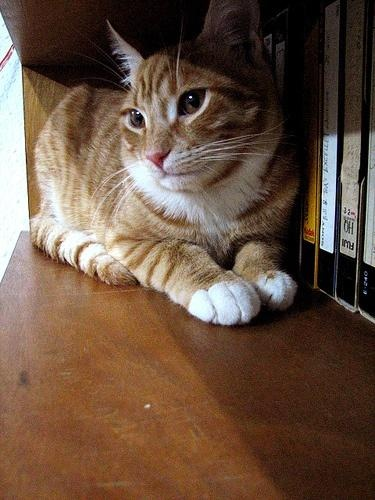cat: (29, 1, 305, 327)
